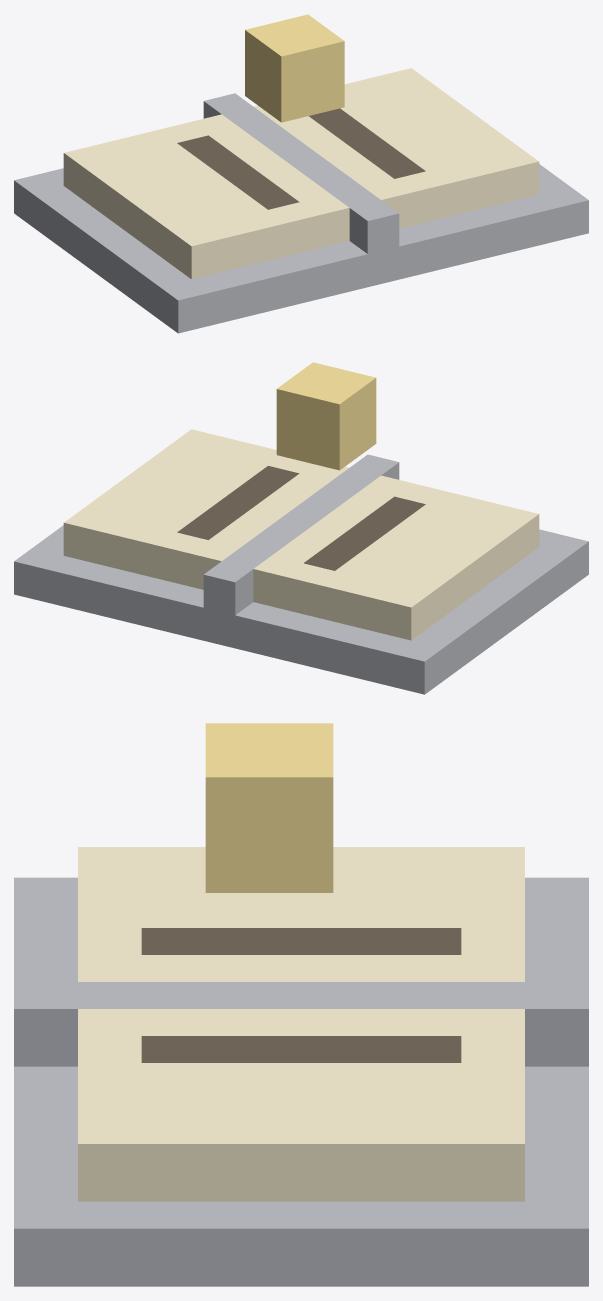
File: vox_tome_star.glb
3 views of the same model, one above another, from view 1: azimuth 30°, elevation 25°; view 2: azimuth 150°, elevation 25°; view 3: azimuth 270°, elevation 25° (orthographic). The views are drawn at different scales.
Visible parts, largest first — view 1: vox_tome_star; view 2: vox_tome_star; view 3: vox_tome_star.
Boxes of the visible parts, x1=… form: vox_tome_star: x1=14, y1=14, x2=588, y2=333; vox_tome_star: x1=14, y1=362, x2=588, y2=694; vox_tome_star: x1=14, y1=723, x2=588, y2=1286.
Bounding box in the file's own units: 0.26 × 0.12 × 0.18.
